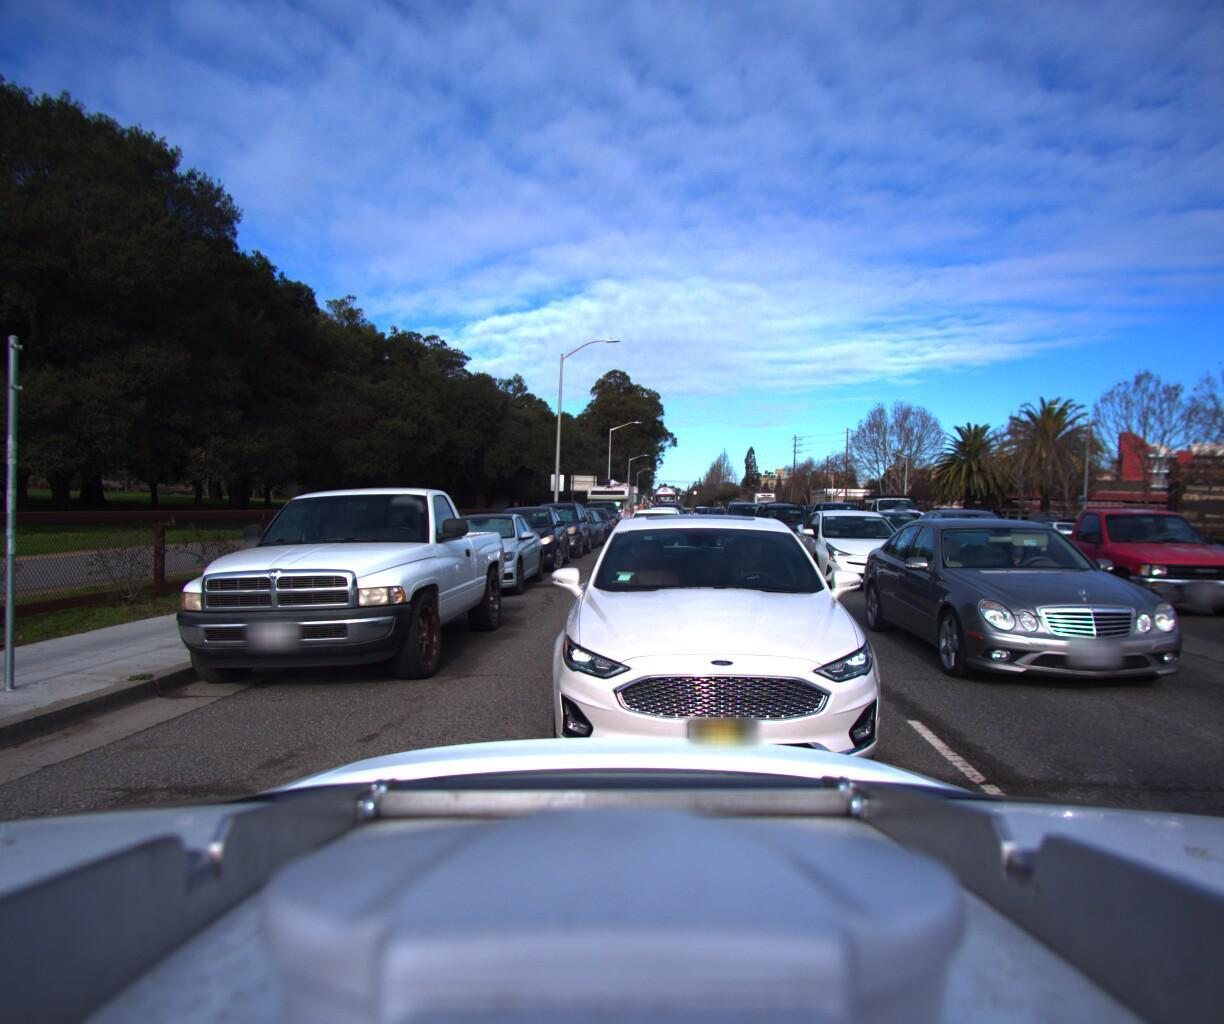car: (524, 508, 922, 840), (140, 470, 528, 704), (851, 511, 1210, 701), (1008, 498, 1224, 630), (780, 504, 921, 593), (420, 505, 551, 597), (1079, 513, 1224, 588), (898, 505, 1044, 580), (479, 499, 573, 573), (609, 507, 692, 574), (849, 510, 939, 561), (743, 502, 818, 557), (522, 499, 593, 557), (1011, 517, 1085, 554), (718, 505, 779, 546), (554, 506, 606, 545), (568, 500, 617, 539), (577, 497, 623, 533), (703, 506, 739, 533), (689, 503, 712, 524)
other_vehicle: (580, 481, 636, 532), (601, 482, 644, 523), (614, 489, 647, 519)
truck: (834, 486, 938, 552), (646, 482, 681, 519)
